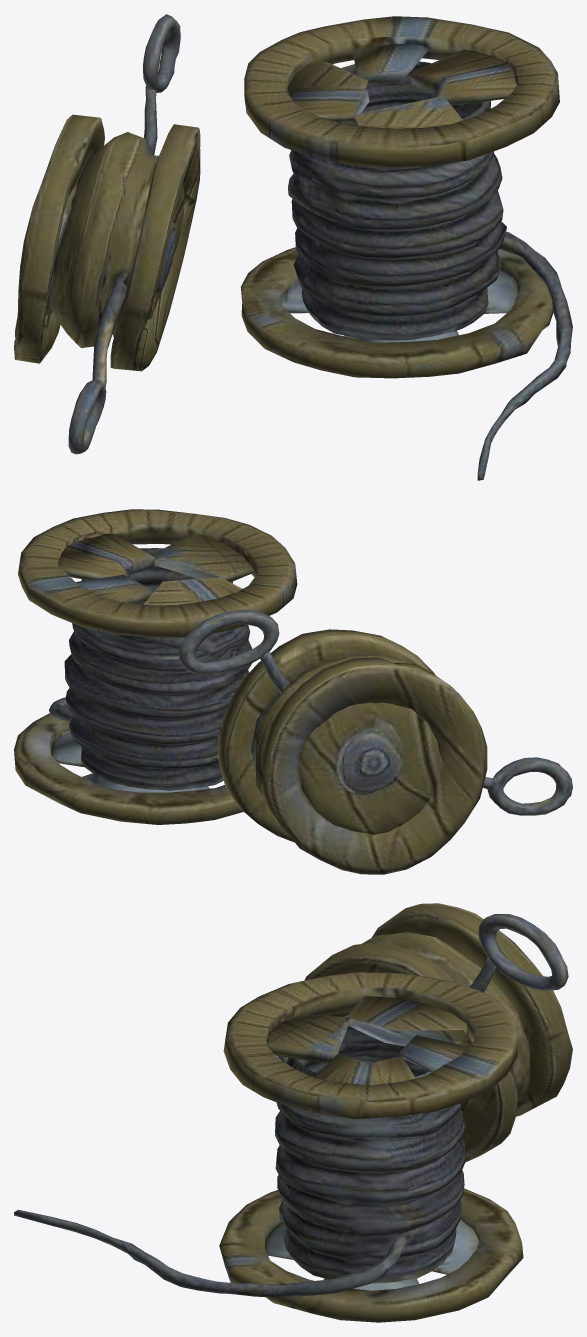
File: av_cabo.glb
The picture shows the model from 3 angles, top to bottom: view 1: azimuth 30°, elevation 25°; view 2: azimuth 150°, elevation 25°; view 3: azimuth 270°, elevation 25°; orthographic projection. The views are drawn at different scales.
Visible parts, largest first — view 1: Mesh_0.003; view 2: Mesh_0.003; view 3: Mesh_0.003.
Boxes of the visible parts, left/top/right/bottom form: Mesh_0.003: left=14, top=14, right=572, bottom=480; Mesh_0.003: left=14, top=509, right=572, bottom=874; Mesh_0.003: left=14, top=903, right=572, bottom=1322.
Size of the model in its own units: 0.4053 by 0.2017 by 0.375.
1 material, 1 textured.
